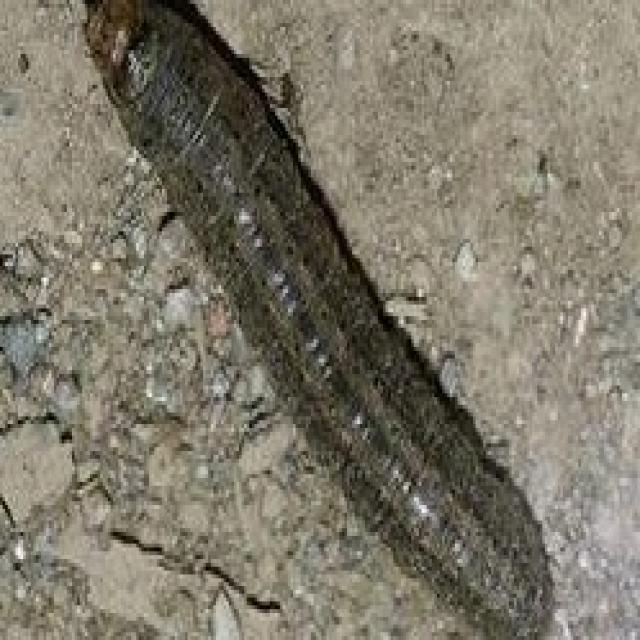black cutworm: (63, 1, 572, 640)
